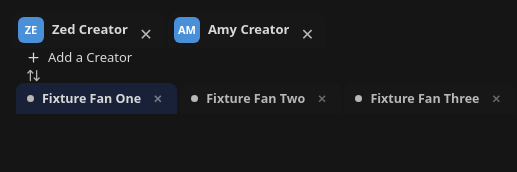
Test case: FanTabs with OpenInNewTabButton › with the Creator tabs rendered beside the Fan tabs, closing a Creator tab leaves its Fan tabs in the strip
Expected: the tab "ZE Zed Creator" is shown, [18,12,128,48]
Click the button named "Close Zed Creator". click: coordinates (146, 30)
box: [138,22,154,38]
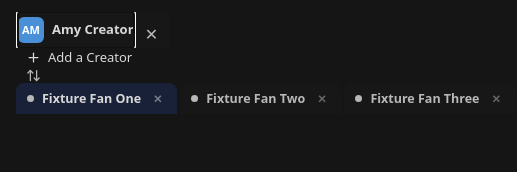
Expected: the tab "Zed Creator" is gone
